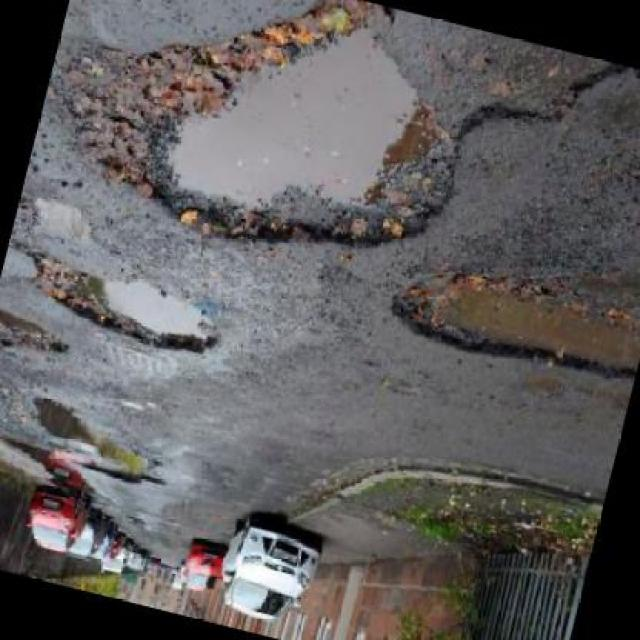pothole: (45, 2, 503, 303), (380, 243, 638, 400), (10, 242, 233, 368), (76, 433, 172, 496), (21, 390, 98, 456), (0, 302, 75, 367)
